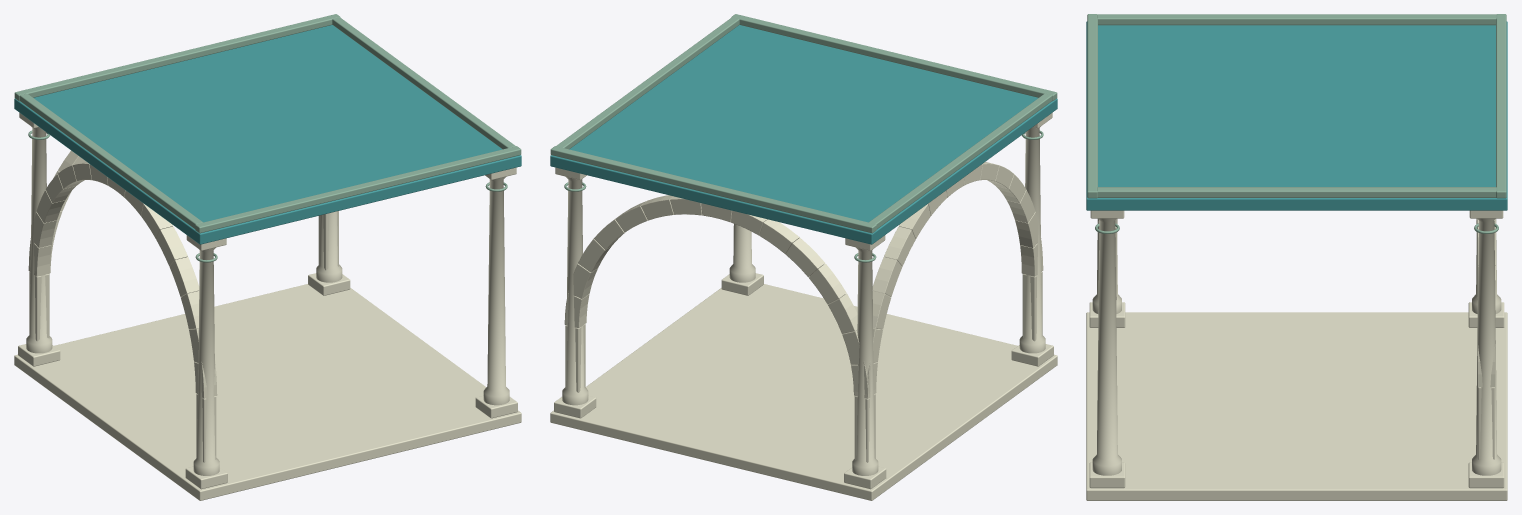
Rendered from enchanted-harp-garden-and-music-sanctuary-garden-arcad-3d0633a0__30393.glb.
The picture shows the model from 3 angles, left to right: view 1: azimuth 30°, elevation 25°; view 2: azimuth 150°, elevation 25°; view 3: azimuth 270°, elevation 25°; orthographic projection. The views are drawn at different scales.
Visible parts, largest first — view 1: garden-arcade-corner; view 2: garden-arcade-corner; view 3: garden-arcade-corner.
Part boxes in pixels (box(x1,y1,x2,y2)): garden-arcade-corner: box(14, 14, 521, 500); garden-arcade-corner: box(550, 14, 1057, 500); garden-arcade-corner: box(1086, 14, 1507, 500).
Size of the model in its own units: 4 by 3.25 by 4.
